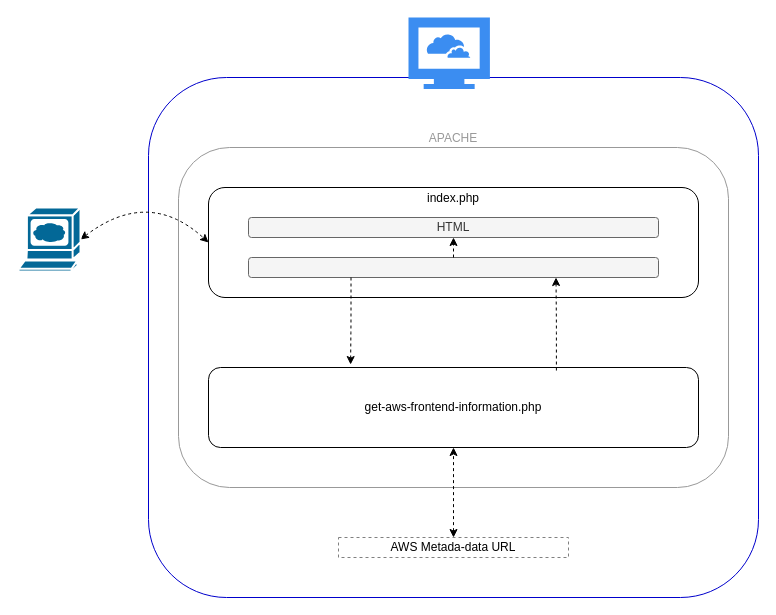
Some shapes in this 776 by 615 pixel diagram are drawn without their labels. The shapes that lost their labels are listed below. From the top down, each one's centre as x and y in pixels, then its label:
the point at 448,53: PUBLIC HOST
the point at 453,267: JavaScript
